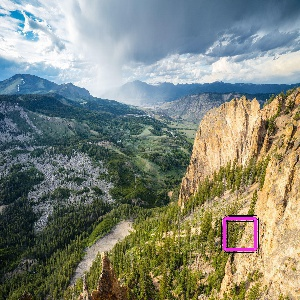square: (222, 215, 258, 254)
